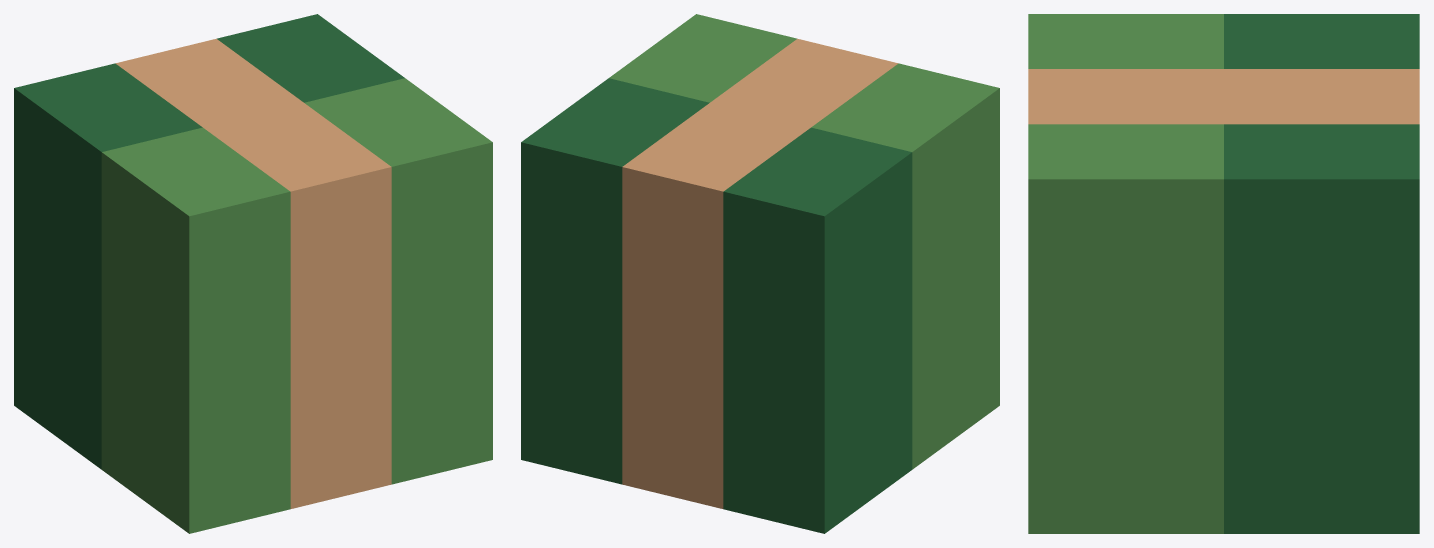
Rendered from StraightPathForestGrass(MODEL).fbx.
3 views of the same model, side by side, from view 1: azimuth 30°, elevation 25°; view 2: azimuth 150°, elevation 25°; view 3: azimuth 270°, elevation 25° (orthographic). The views are drawn at different scales.
Visible parts, largest first — view 1: FPFFGGPGGFTile; view 2: FPFFGGPGGFTile; view 3: FPFFGGPGGFTile.
Part boxes in pixels (box(x1,y1,x2,y2)): FPFFGGPGGFTile: box(14, 14, 492, 533); FPFFGGPGGFTile: box(521, 14, 999, 533); FPFFGGPGGFTile: box(1028, 14, 1419, 533).
Bounding box in the file's own units: 200 × 200 × 200.
